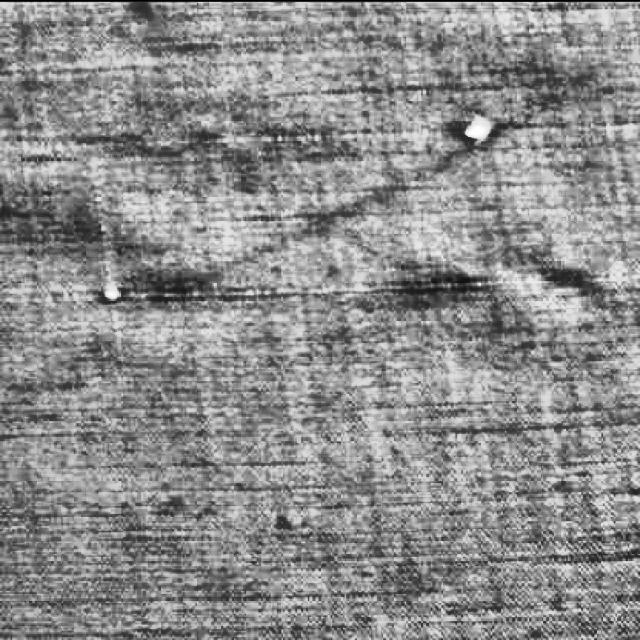hole: (458, 111, 494, 153), (98, 277, 129, 313)
